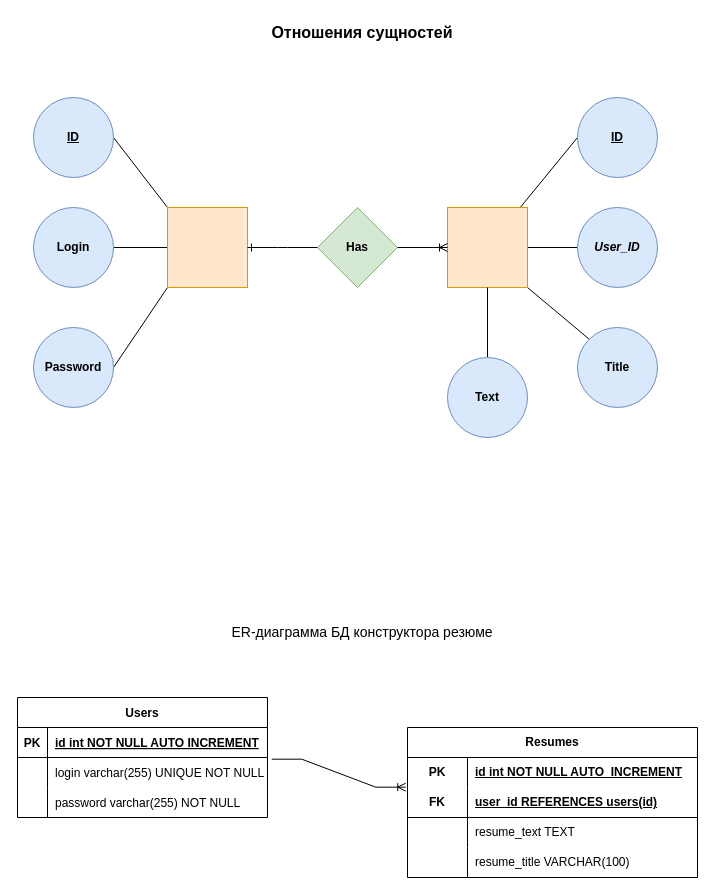
Image size: 715x895. Some labels were removed from this diagram. Each missing label, with the centre of its shape:
"Resume" goes at pixel 487 247.
"User" goes at pixel 207 247.
